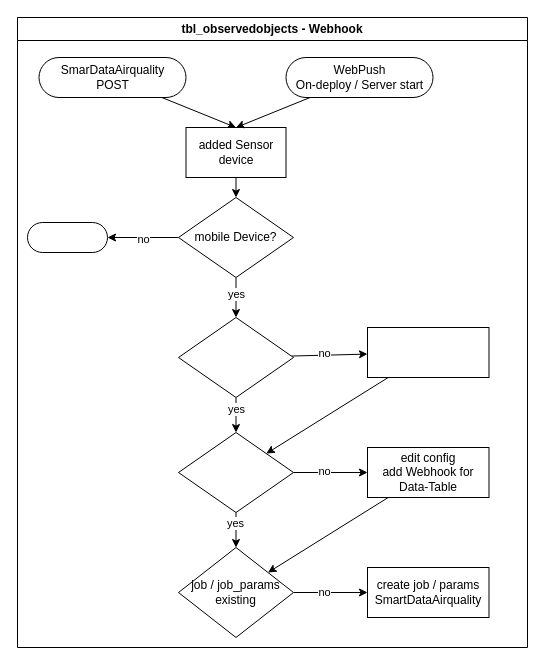
The diagram is 545 pixels wide and 665 high, and some of its shapes have lost their labels. Each missing label, with the box of its shape:
create new Group SmartDataAirquality: (366, 326, 489, 378)
end: (26, 222, 108, 252)
group existing?: (178, 316, 294, 398)
webhook existing?: (178, 432, 294, 512)
